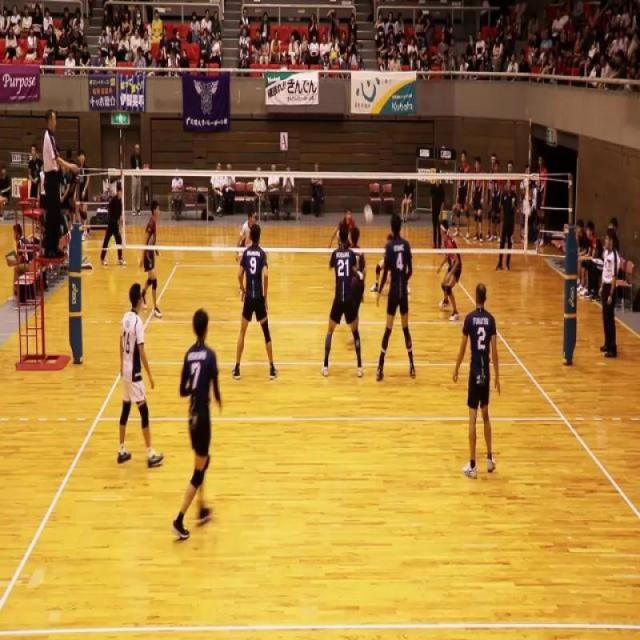volleyball: (363, 202, 374, 228)
